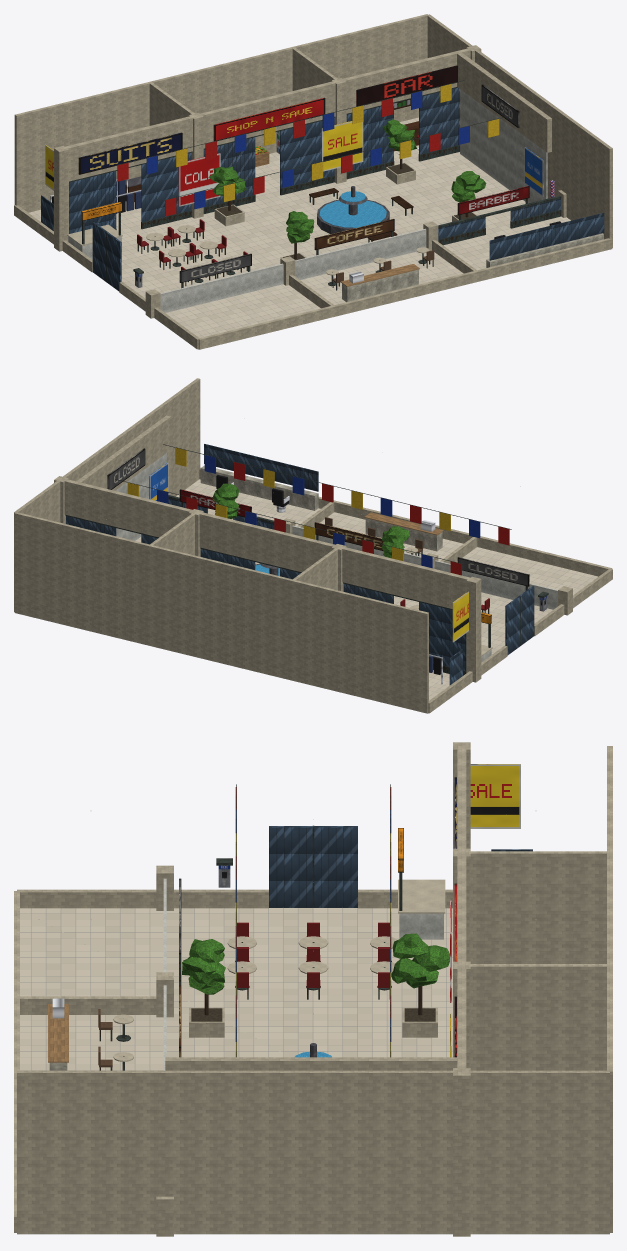
Rendered from Mall.fbx.
The picture shows the model from 3 angles, top to bottom: view 1: azimuth 30°, elevation 25°; view 2: azimuth 150°, elevation 25°; view 3: azimuth 270°, elevation 25°; orthographic projection. The views are drawn at different scales.
Parts seen in each view (by area): view 1: Mall_Floor, Mall_WallN, Mall_FrontSuits, Mall_WallE, Mall_FrontClosedN, Mall_FrontClosedE, Mall_FrontBar, NoCol_MallFlags, Mall_WallS, Mall_FrontClosedSW, Mall_FrontCoffee, Mall_FrontClosedSE (+25 smaller); view 2: Mall_WallN, Mall_FrontSuits, Mall_Floor, Mall_WallE, Mall_FrontClosedN, Mall_FrontBar, NoCol_MallFlags, Mall_FrontClosedE, Mall_WallS, Mall_BarberMirror, Mall_WallW, Mall_FrontClosedSW (+15 smaller); view 3: Mall_WallE, Mall_Floor, Mall_SplitN-4, Mall_SplitN4, Mall_Door, Mall_WallW, Mall_FrontBar, Mall_FrontClosedE, Mall_Planter0, Mall_HoardingW, Mall_Planter2, Mall_FoodKiosk (+9 smaller).
Part boxes in pixels (box(x1,y1,x2,y2)): Mall_Floor: box(28, 117, 570, 349); Mall_WallN: box(14, 14, 428, 212); Mall_FrontSuits: box(54, 115, 195, 251); Mall_WallE: box(427, 14, 612, 247); Mall_FrontClosedN: box(188, 80, 339, 218); Mall_FrontClosedE: box(456, 52, 551, 203); Mall_FrontBar: box(331, 45, 481, 183); NoCol_MallFlags: box(115, 80, 511, 216); Mall_WallS: box(198, 238, 612, 349); Mall_FrontClosedSW: box(145, 256, 295, 318); Mall_FrontCoffee: box(295, 228, 426, 279); Mall_FrontClosedSE: box(423, 190, 566, 250); Mall_WallN: box(14, 512, 428, 713); Mall_FrontSuits: box(341, 546, 481, 682); Mall_Floor: box(135, 479, 597, 713); Mall_WallE: box(14, 378, 200, 611); Mall_FrontClosedN: box(197, 512, 346, 591); Mall_FrontBar: box(54, 476, 203, 556); NoCol_MallFlags: box(115, 444, 511, 575); Mall_FrontClosedE: box(75, 415, 171, 540); Mall_WallS: box(199, 467, 612, 576); Mall_BarberMirror: box(204, 444, 318, 491); Mall_WallW: box(428, 569, 612, 713); Mall_FrontClosedSW: box(426, 553, 572, 615); Mall_WallE: box(17, 1070, 609, 1234); Mall_Floor: box(20, 908, 452, 1070); Mall_SplitN-4: box(470, 851, 609, 963); Mall_SplitN4: box(461, 964, 609, 1070); Mall_Door: box(269, 825, 357, 907); Mall_WallW: box(17, 889, 452, 908); Mall_FrontBar: box(453, 961, 470, 1236); Mall_FrontClosedE: box(165, 1057, 457, 1070); Mall_Planter0: box(391, 933, 449, 1037); Mall_HoardingW: box(470, 764, 520, 828); Mall_Planter2: box(182, 939, 225, 1037); Mall_FoodKiosk: box(398, 828, 445, 939).
Size of the model in its own units: 26.6 by 6.05 by 20.2.
